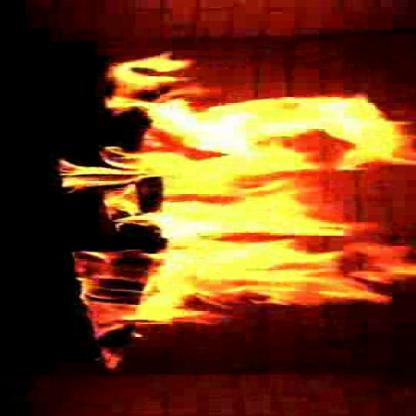Fire: (168, 104, 404, 304)
